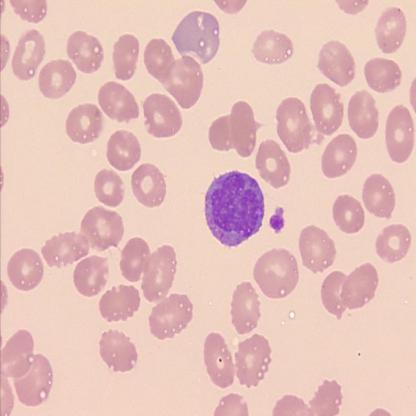Monocyte: (204, 169, 266, 249)
